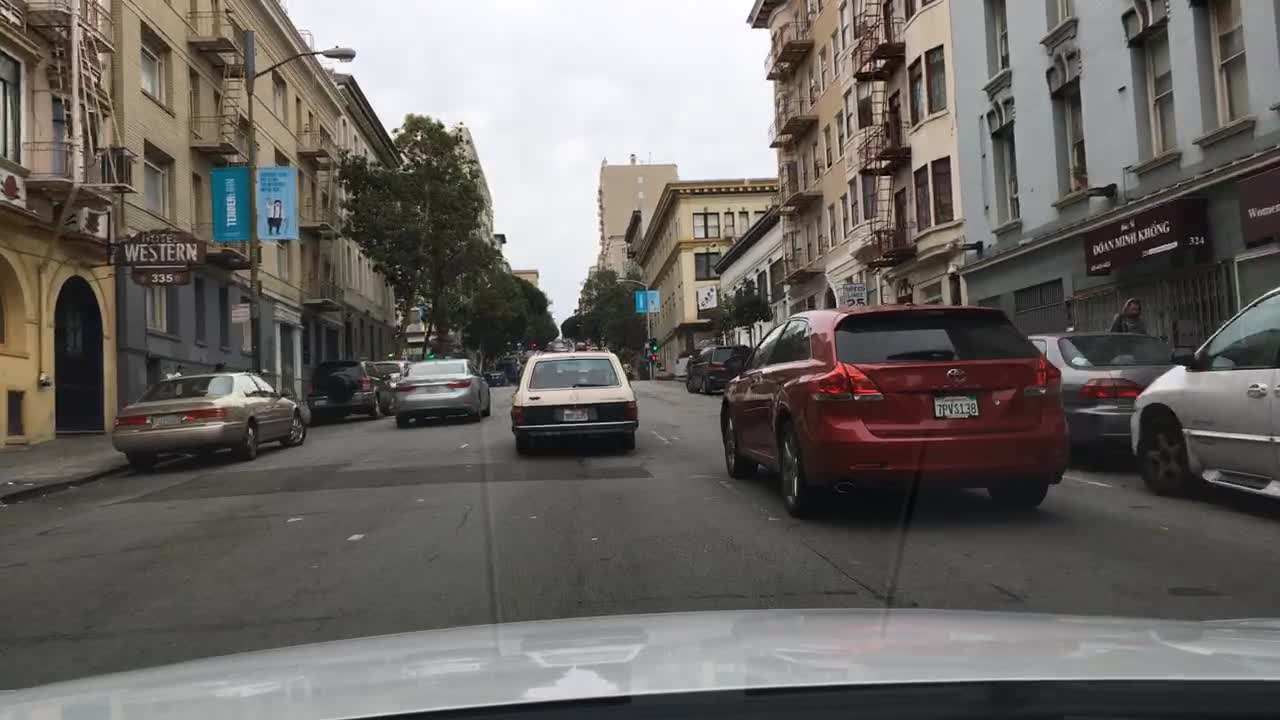car: (719, 301, 1067, 517), (1129, 284, 1279, 499), (1028, 331, 1176, 465), (112, 368, 306, 469), (510, 349, 639, 454), (398, 355, 490, 424), (307, 358, 396, 423), (684, 342, 751, 392), (373, 359, 410, 384), (482, 370, 506, 387)
person: (1112, 296, 1147, 333)
traffic light: (648, 337, 659, 359)
traffic sign: (841, 281, 867, 306), (636, 289, 661, 312), (230, 301, 250, 321)
